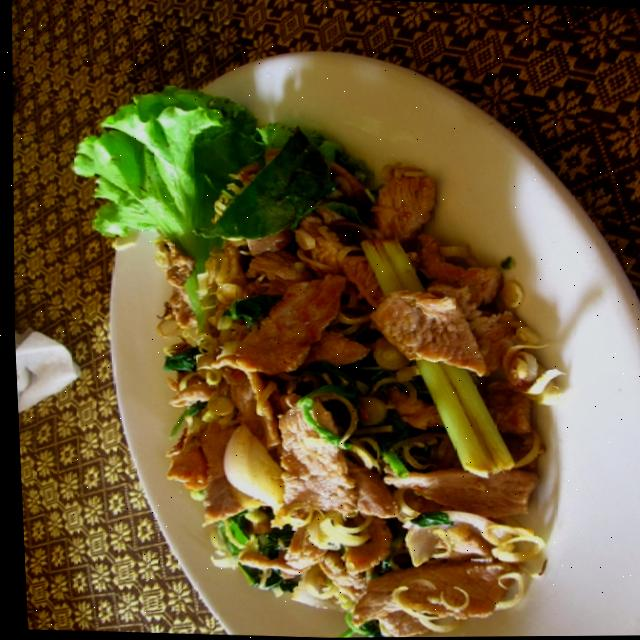猪肉菜式: (65, 73, 614, 640)
